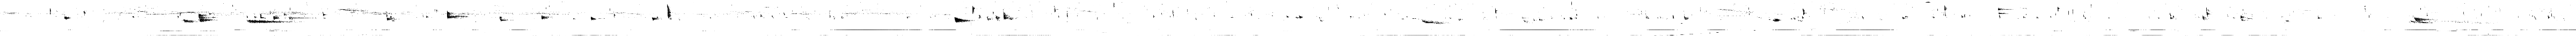meteor: (447, 11, 467, 20), (199, 13, 215, 21), (248, 20, 286, 23), (1421, 20, 1446, 25), (2410, 20, 2435, 25), (954, 16, 973, 23), (289, 16, 315, 20), (1004, 11, 1014, 20), (386, 15, 398, 21), (182, 18, 195, 23), (2415, 18, 2433, 21), (1998, 8, 2012, 11), (499, 16, 508, 21), (542, 15, 550, 20), (591, 16, 598, 21), (652, 16, 659, 21), (2170, 13, 2175, 20), (2203, 15, 2208, 21), (2206, 10, 2211, 16), (322, 11, 329, 16), (260, 13, 264, 18), (64, 16, 71, 20), (273, 16, 279, 20), (1999, 11, 2006, 15), (1684, 16, 1689, 20), (2241, 15, 2246, 18)
